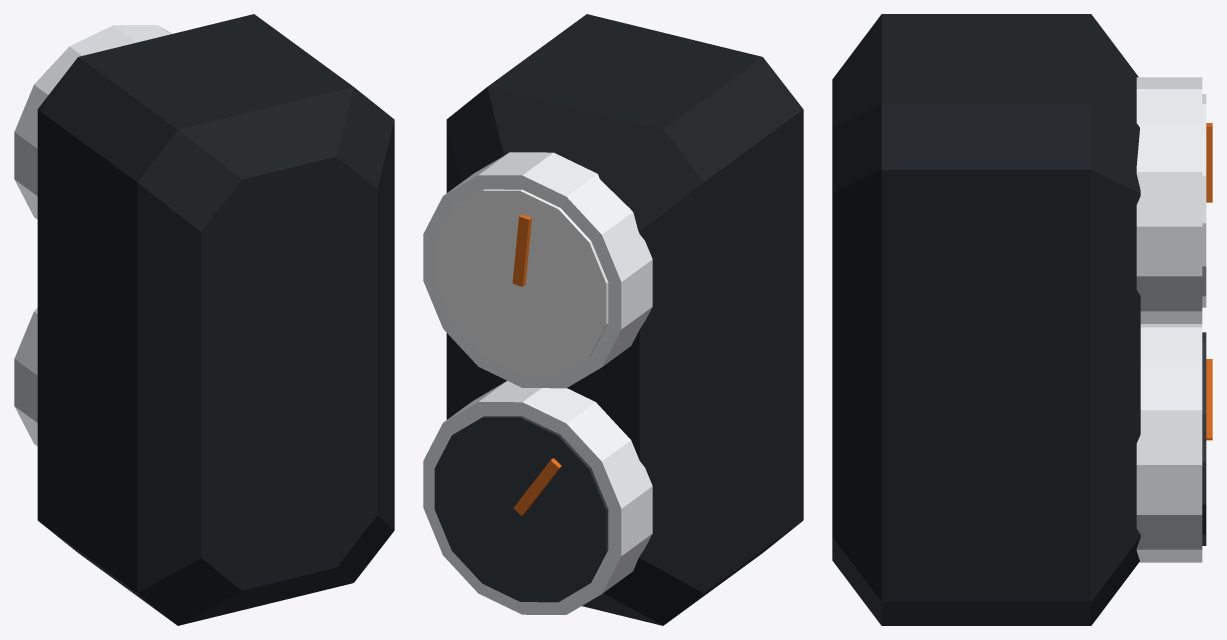
File: vortex_r.glb
The picture shows the model from 3 angles, left to right: view 1: azimuth 30°, elevation 25°; view 2: azimuth 150°, elevation 25°; view 3: azimuth 270°, elevation 25°; orthographic projection. The views are drawn at different scales.
Visible parts, largest first — view 1: model; view 2: model; view 3: model.
Boxes of the visible parts, x1,y1,x2,y2 form: model: [14, 14, 394, 625]; model: [423, 14, 803, 625]; model: [832, 14, 1212, 625].
Bounding box in the file's own units: 0.076 × 0.14 × 0.0925.
Materials: 2 (1 with a texture image).
